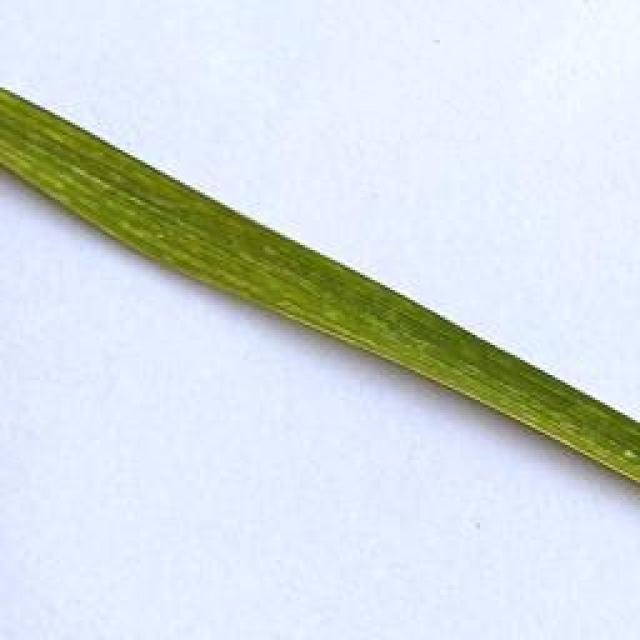Healthy-Plant: (0, 89, 640, 482)
